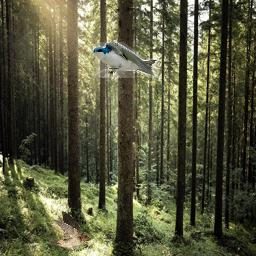Swallow: (93, 42, 159, 78), (47, 211, 91, 251)
